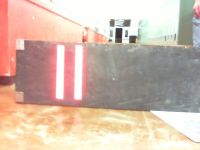switch: (55, 45, 65, 100), (74, 45, 83, 100)
